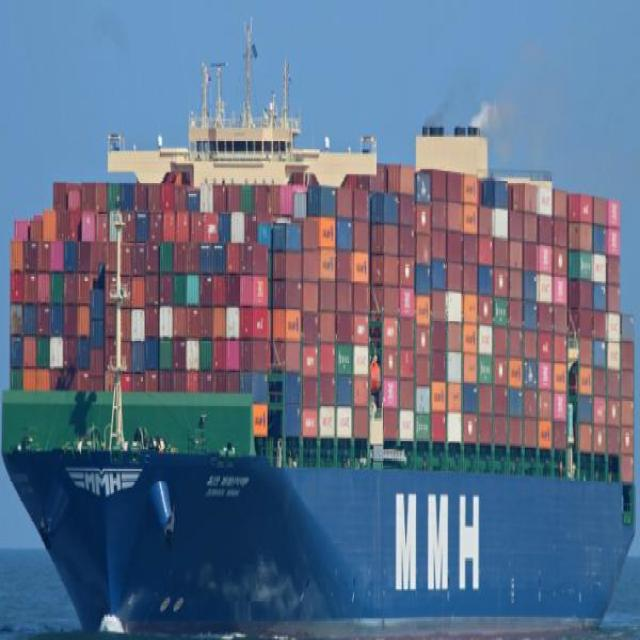Container Ship: (6, 10, 638, 636)
